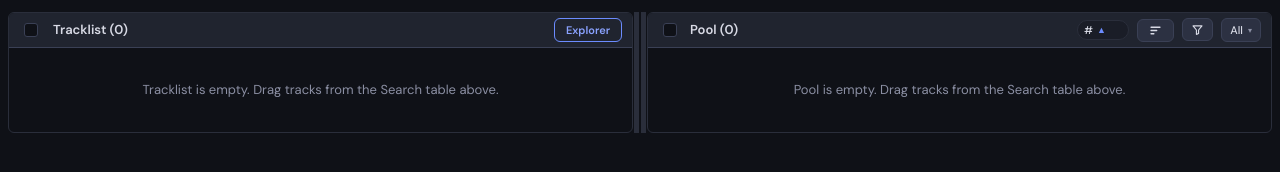
Test: SetBuilder › workspace layout › expanding the tracklist restores the split view
The image size is (1280, 172).
Click the button named "Collapse tracklist".
click(636, 72)  # box top-left (634, 12), bottom-right (639, 132)
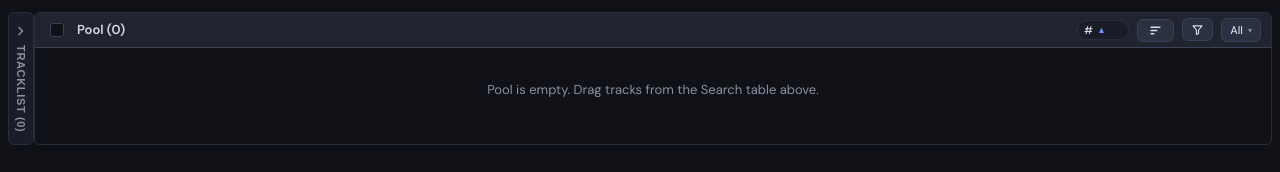
Click the button with aria-label "Expand tracklist".
click(21, 79)  # box top-left (8, 12), bottom-right (34, 145)
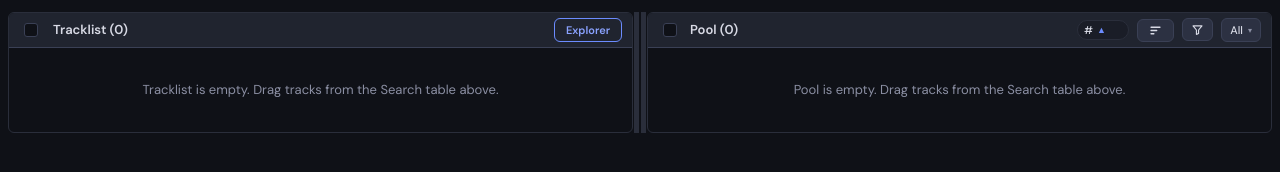
Expected: the text "Tracklist (0)" is shown, top-left (53, 20), bottom-right (128, 40)
Expected: the button named "Collapse tracklist" is shown, top-left (634, 12), bottom-right (639, 132)
Expected: the button named "Collapse pool" is shown, top-left (641, 12), bottom-right (646, 132)
